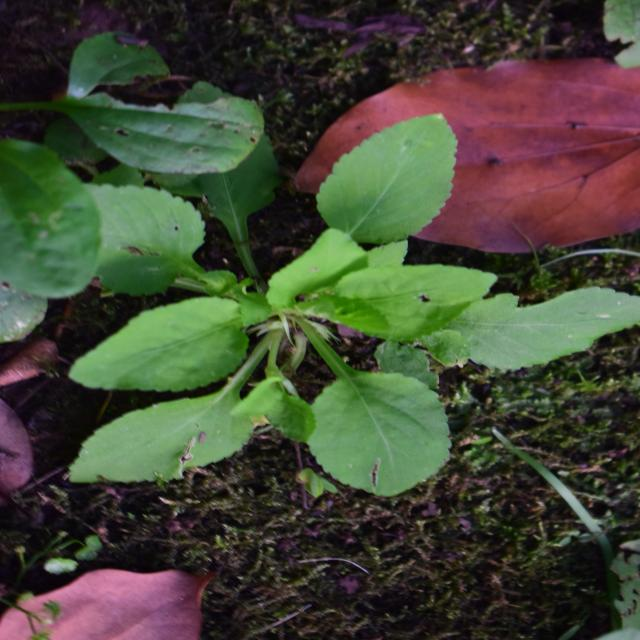Viola: (139, 54, 519, 568)
